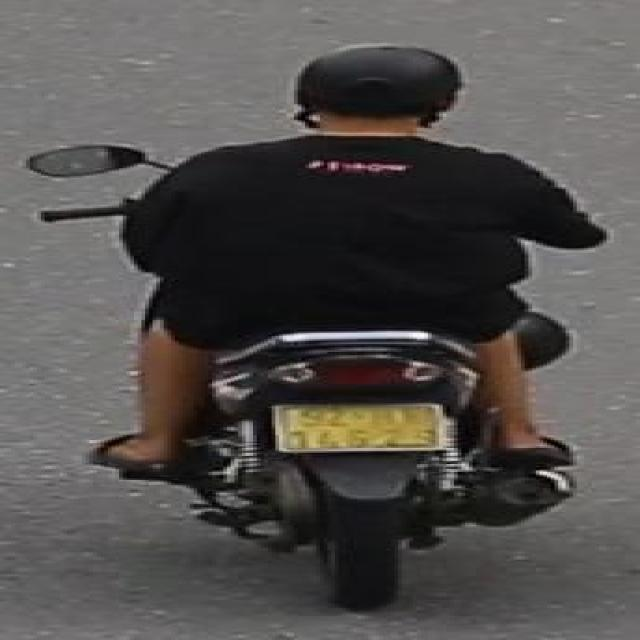LP: (270, 399, 456, 455)
helmet: (277, 44, 467, 150)
